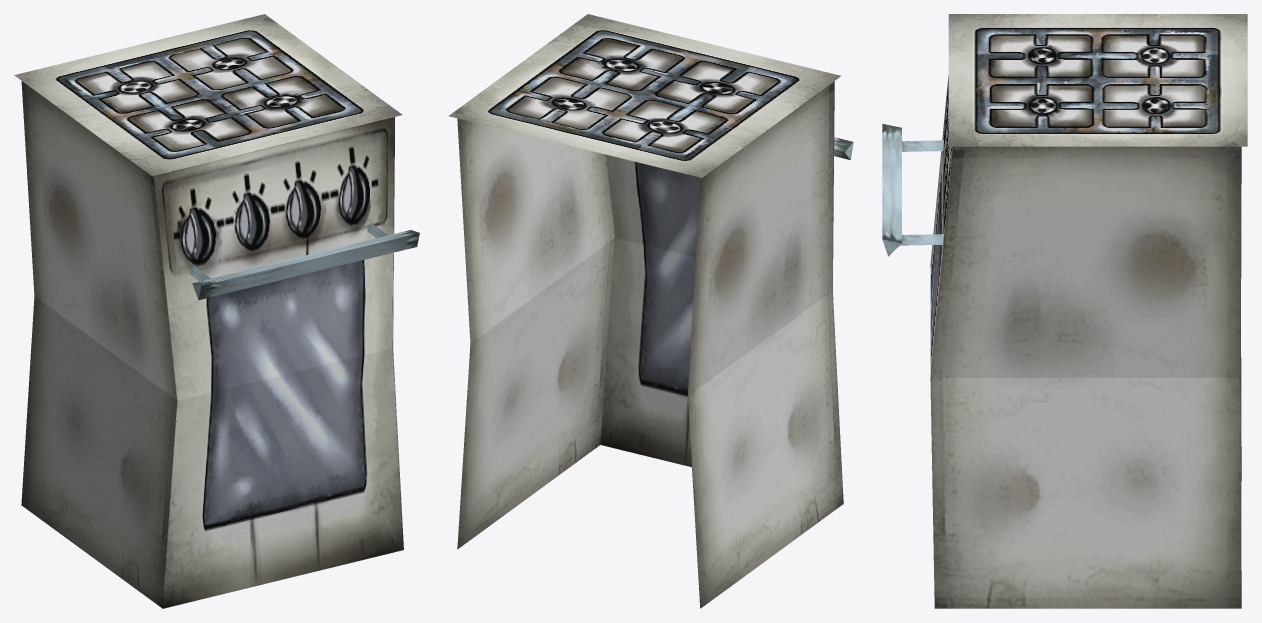
Rendered from Gasherd_1381.glb.
The picture shows the model from 3 angles, left to right: view 1: azimuth 30°, elevation 25°; view 2: azimuth 150°, elevation 25°; view 3: azimuth 270°, elevation 25°; orthographic projection. The views are drawn at different scales.
Visible parts, largest first — view 1: pPlaneShape180, pPlaneShape181, pPlaneShape183, pCylinderShape243; view 2: pPlaneShape181, pPlaneShape182, pPlaneShape183, pPlaneShape180; view 3: pPlaneShape182, pPlaneShape183, pCylinderShape243, pPlaneShape180.
Part boxes in pixels (bbox=[...]): pPlaneShape180: bbox=[153, 117, 403, 608]; pPlaneShape181: bbox=[21, 81, 177, 608]; pPlaneShape183: bbox=[14, 14, 402, 175]; pCylinderShape243: bbox=[192, 230, 419, 300]; pPlaneShape181: bbox=[687, 81, 843, 608]; pPlaneShape182: bbox=[457, 118, 614, 549]; pPlaneShape183: bbox=[448, 14, 840, 177]; pPlaneShape180: bbox=[600, 81, 843, 503]; pPlaneShape182: bbox=[930, 146, 1241, 608]; pPlaneShape183: bbox=[948, 14, 1247, 146]; pCylinderShape243: bbox=[882, 124, 901, 256]; pPlaneShape180: bbox=[930, 78, 953, 563].
Bounding box in the file's own units: 0.0698 × 0.1141 × 0.0812.
Materials: 7 (7 with a texture image).
